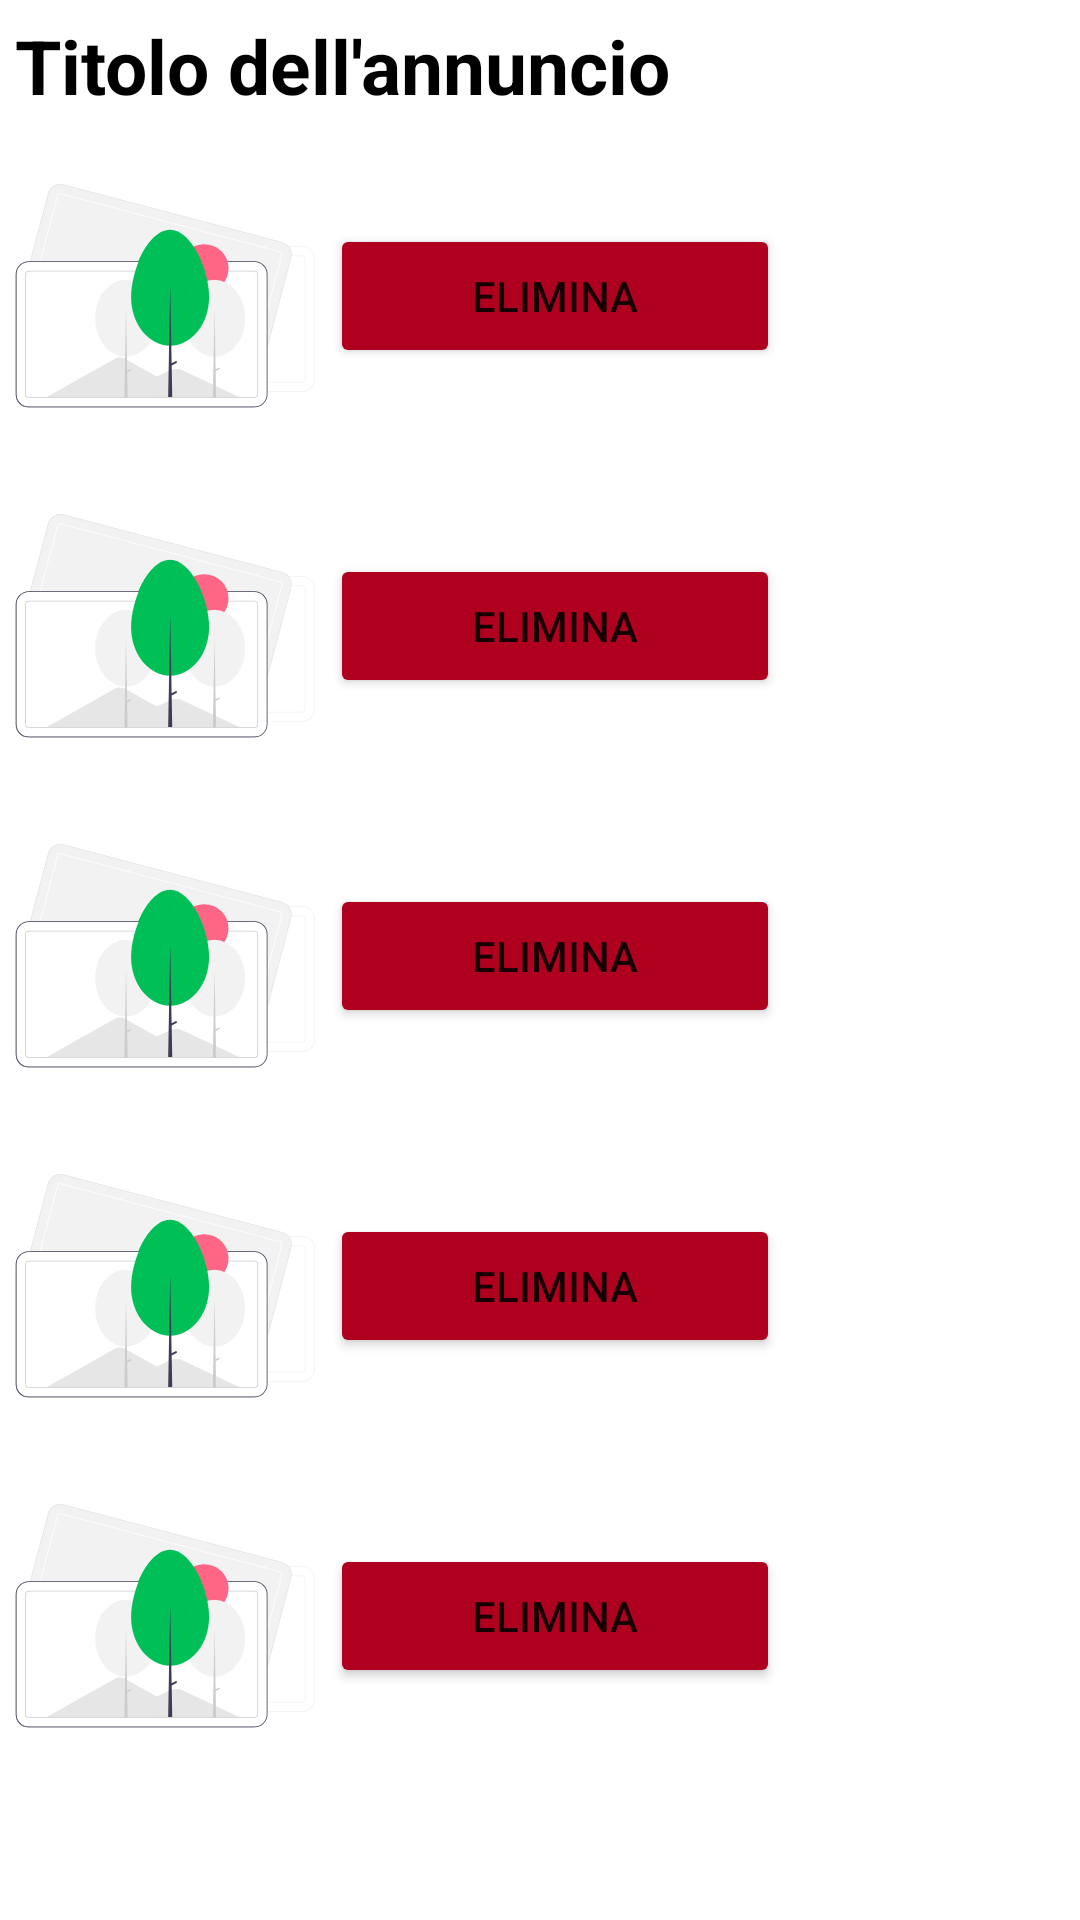

Icons on this 1080px×1920px Android screen, each with its box as bbox=(x1, y1, x2, y2):
icona immagine: bbox=(15, 229, 268, 408), bbox=(15, 559, 268, 738), bbox=(15, 889, 268, 1068), bbox=(15, 1219, 268, 1398), bbox=(15, 1549, 268, 1728)
